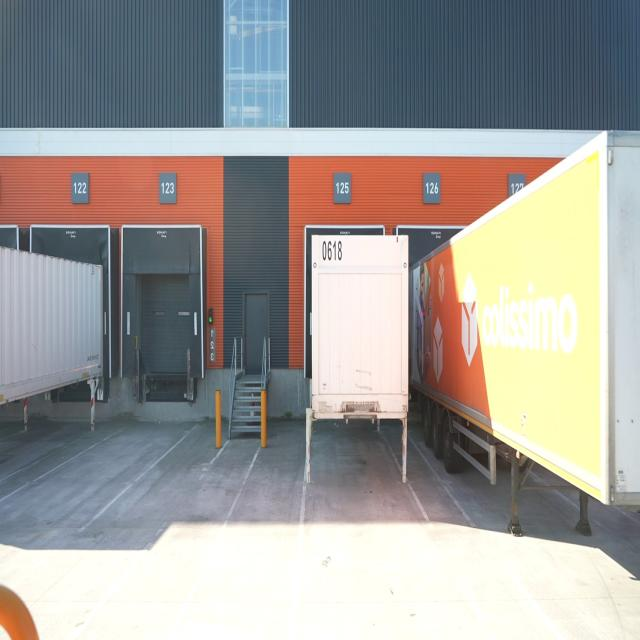Code: (320, 237, 348, 267)
